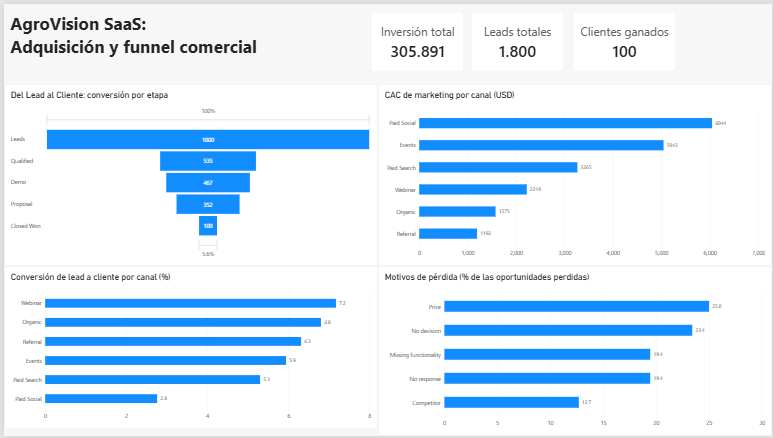

Layout of this report page (visuals, bound fields, positions):
{"tool":"powerbi","page":{"name":"Adquisición y funnel comercial","canvas":[1920,1080],"ordinal":0},"visuals":[{"type":"funnel","title":"Del Lead al Cliente: conversión por etapa","fields":{"Category":["funnel_etapas.etapa"],"Y":["Sum(funnel_etapas.n)"]},"box":[0,200,935,455],"z":0},{"type":"clusteredBarChart","title":"CAC de marketing por canal (USD)","fields":{"Category":["marketing_canal.channel"],"Y":["Sum(marketing_canal.cac_marketing_usd)"]},"box":[935,200,985,455],"z":1},{"type":"clusteredBarChart","title":"Conversión de lead a cliente por canal (%)","fields":{"Category":["marketing_canal.channel"],"Y":["Sum(marketing_canal.conv_lead_a_cliente_pct)"]},"box":[0,655,935,407.5],"z":2},{"type":"cardVisual","fields":{"Data":["marketing_canal.Inversión total"]},"box":[916.7,20,231.7,150],"z":3},{"type":"cardVisual","fields":{"Data":["churn_mensual.Leads totales"]},"box":[1168.3,20,231.7,150],"z":4},{"type":"cardVisual","fields":{"Data":["marketing_canal.Clientes ganados"]},"box":[1423.3,20,256.7,150],"z":5},{"type":"clusteredBarChart","title":"Motivos de pérdida (% de las oportunidades perdidas)","fields":{"Category":["motivos_perdida.lost_reason"],"Y":["Sum(motivos_perdida.pct_de_perdidas)"]},"box":[935,655,985,425],"z":6},{"type":"textbox","box":[0,20,917,150],"z":7}]}

Visuals, with their boxes in screenshot pixels (x1, y1, x2, y2), scaled from the page's 1920x1080 canvas onto the 773x438 screenshot:
"Del Lead al Cliente: conversión por etapa" funnel: {"x1": 0, "y1": 81, "x2": 376, "y2": 266}
"CAC de marketing por canal (USD)" clusteredBarChart: {"x1": 376, "y1": 81, "x2": 772, "y2": 266}
"Conversión de lead a cliente por canal (%)" clusteredBarChart: {"x1": 0, "y1": 266, "x2": 376, "y2": 431}
cardVisual - marketing_canal.Inversión total: {"x1": 369, "y1": 8, "x2": 462, "y2": 69}
cardVisual - churn_mensual.Leads totales: {"x1": 470, "y1": 8, "x2": 564, "y2": 69}
cardVisual - marketing_canal.Clientes ganados: {"x1": 573, "y1": 8, "x2": 676, "y2": 69}
"Motivos de pérdida (% de las oportunidades perdidas)" clusteredBarChart: {"x1": 376, "y1": 266, "x2": 772, "y2": 437}
textbox: {"x1": 0, "y1": 8, "x2": 369, "y2": 69}
